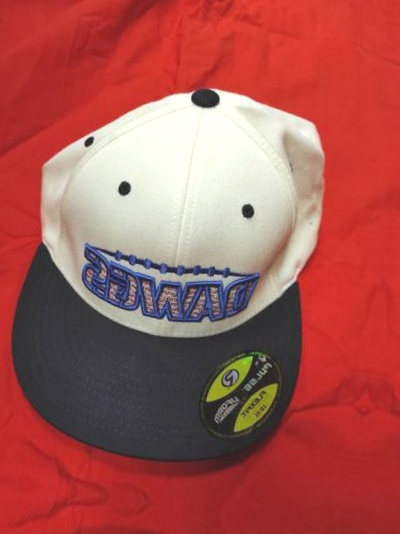Hat: (0, 34, 357, 496), (0, 502, 287, 534)
